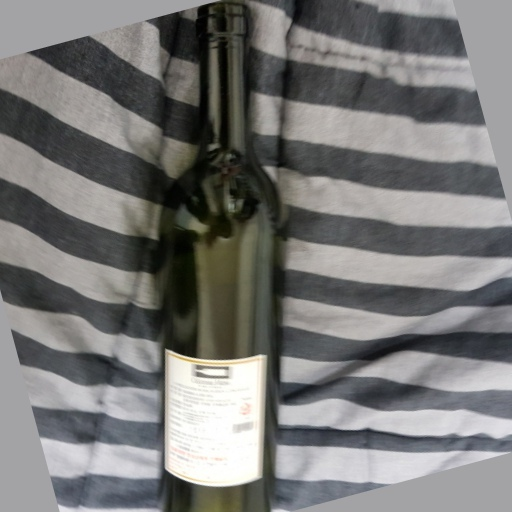Glass_2: (157, 1, 286, 512)
